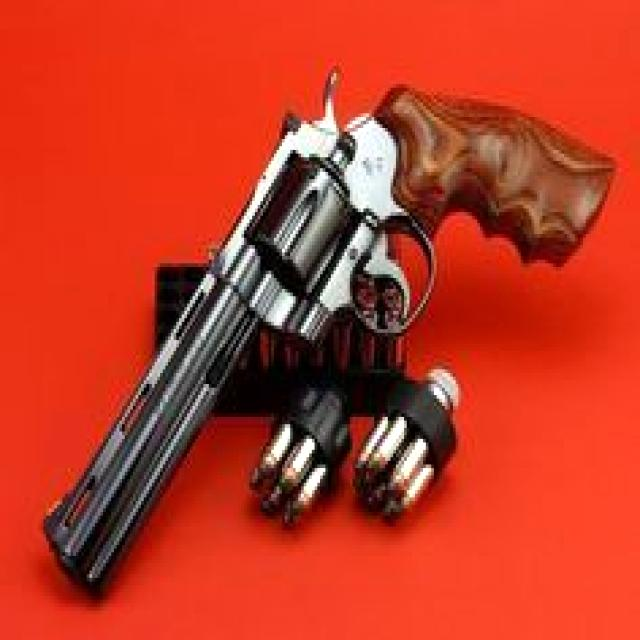revolver: (22, 36, 619, 610)
